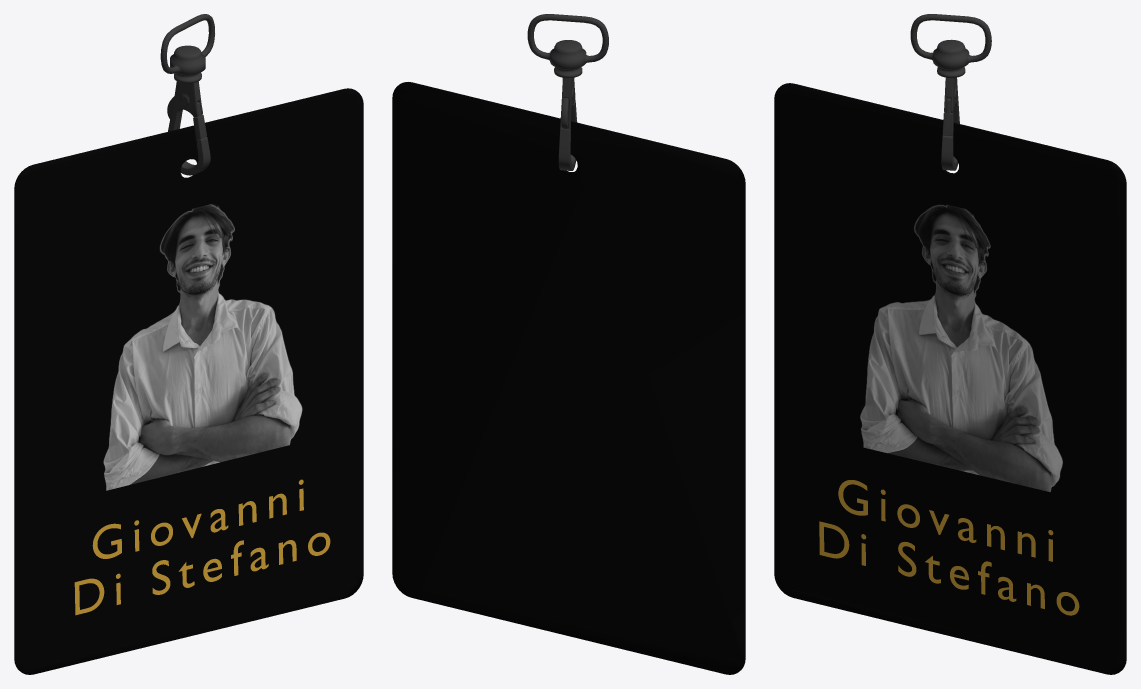
File: gianniBadgeV0-amber-v1-transformed.glb
3 views of the same model, side by side, from view 1: azimuth 30°, elevation 25°; view 2: azimuth 150°, elevation 25°; view 3: azimuth 330°, elevation 25° (orthographic).
Visible parts, largest first — view 1: card, gianni-blur, Text, clip; view 2: card, clip; view 3: card, gianni-blur, Text, clip.
Boxes of the visible parts, left/top/right/bottom form: card: left=14, top=88, right=363, bottom=674; gianni-blur: left=103, top=204, right=302, bottom=490; Text: left=74, top=479, right=330, bottom=615; clip: left=160, top=14, right=214, bottom=175; card: left=392, top=82, right=745, bottom=674; clip: left=527, top=14, right=608, bottom=170; card: left=774, top=83, right=1126, bottom=674; gianni-blur: left=860, top=204, right=1062, bottom=491; Text: left=819, top=480, right=1079, bottom=615; clip: left=910, top=14, right=991, bottom=170.
Bounding box in the file's own units: 0.7164 × 1.21 × 0.0903.
Materials: 4 (1 with a texture image).
